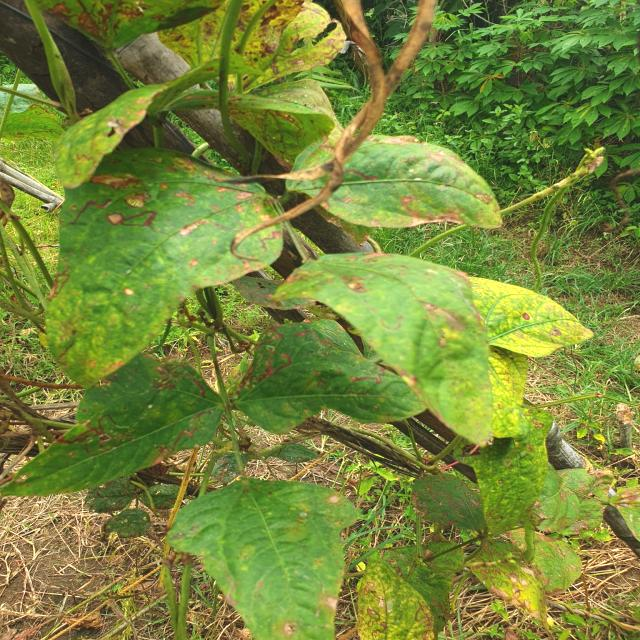leaf-moderate: (466, 465, 603, 631), (228, 0, 345, 164), (464, 441, 525, 522), (158, 0, 228, 64)
sitaw-aphid-high: (275, 254, 522, 447), (166, 478, 357, 640)
sitaw-aphid-low: (46, 148, 283, 387), (25, 354, 222, 495), (235, 320, 425, 434), (322, 135, 502, 228), (286, 134, 334, 197)
